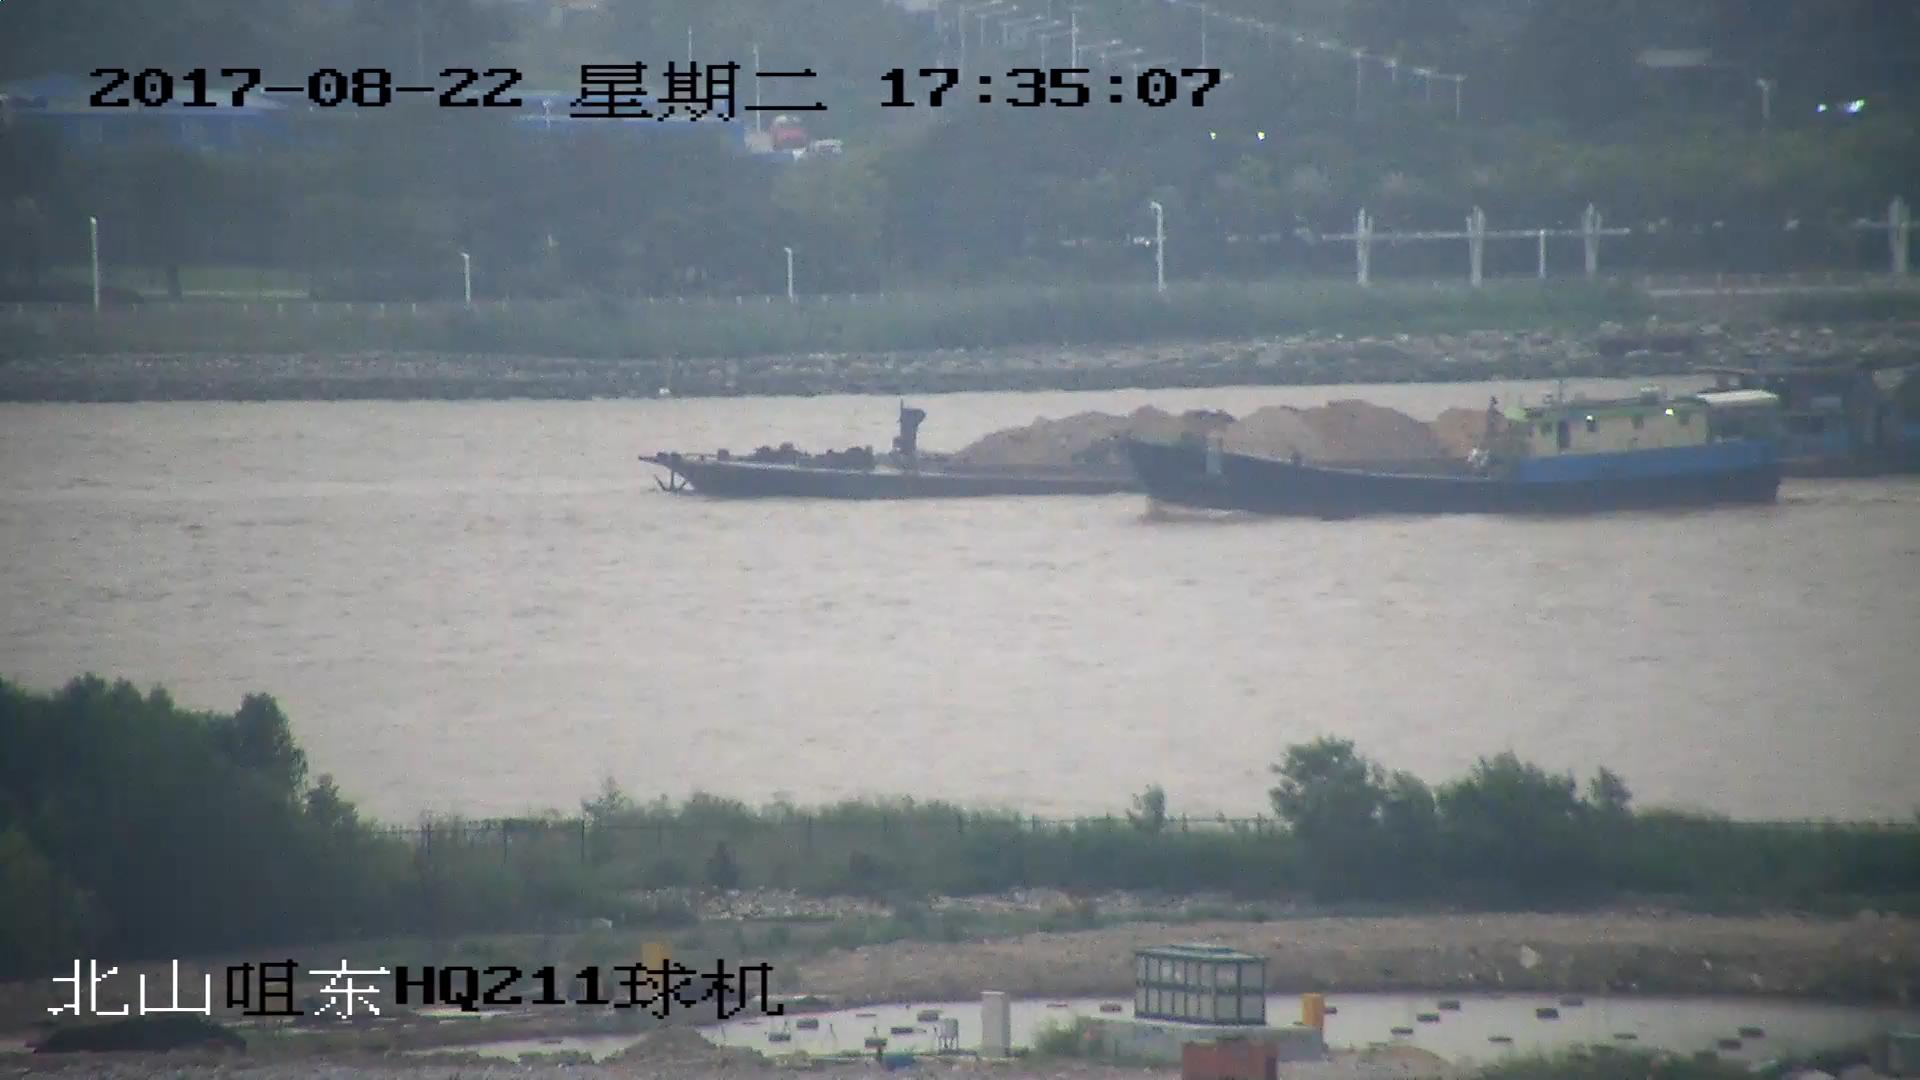fishing boat: (1131, 390, 1780, 508)
ore carrier: (653, 365, 1920, 503)
